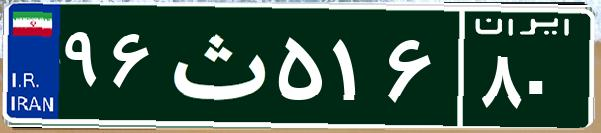0: (525, 38, 570, 115)
1: (330, 28, 385, 110)
5: (273, 28, 330, 110)
6: (385, 28, 445, 110), (110, 28, 158, 105)
8: (475, 38, 525, 113)
9: (57, 26, 110, 107)
ث: (158, 15, 273, 115)
